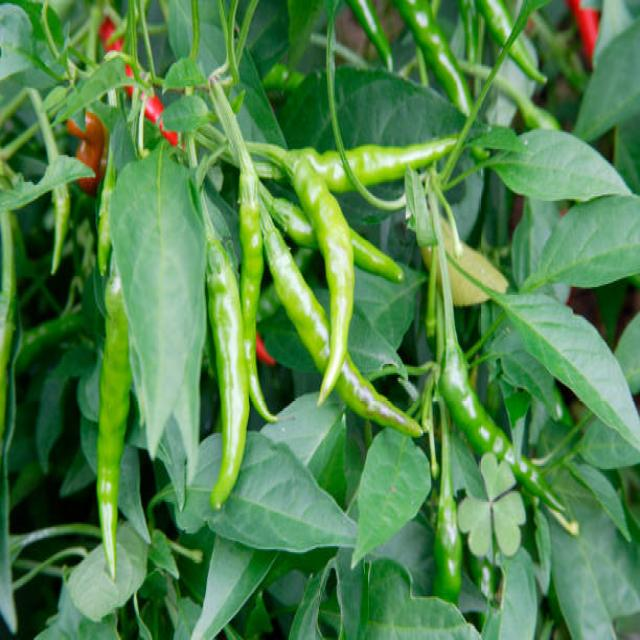Unripe: (440, 359, 548, 499), (295, 163, 353, 406), (260, 198, 332, 373), (208, 229, 248, 507), (97, 289, 133, 580), (274, 204, 408, 282), (239, 168, 275, 420), (297, 140, 454, 197), (329, 350, 426, 441)
